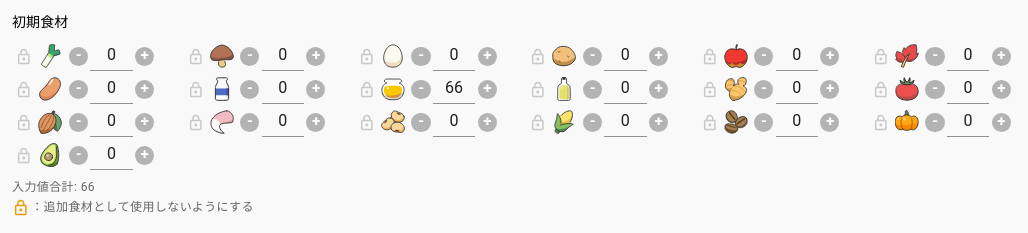
it: InitialIngredientsEditor › allows clearing a count while typing and treats it as 0
Clear the field named "honey" at [454, 90], box [433, 75, 475, 104]
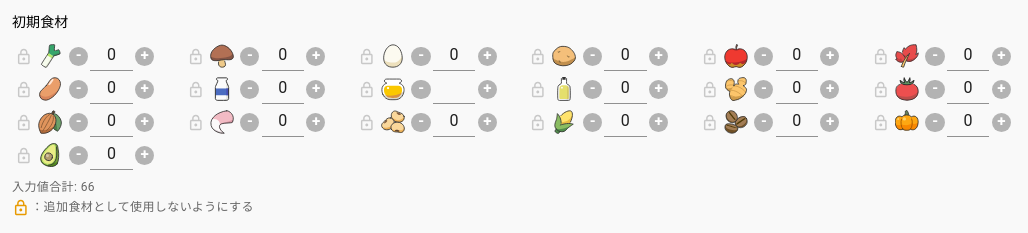
Leave the field named "honey", box [433, 75, 475, 104]
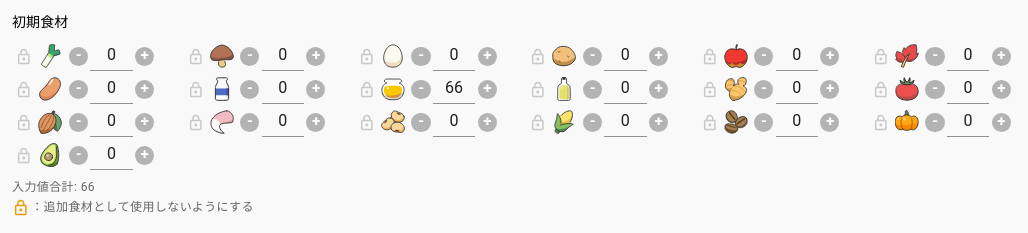
Now the field named "honey" holds "66", box [433, 75, 475, 104]
